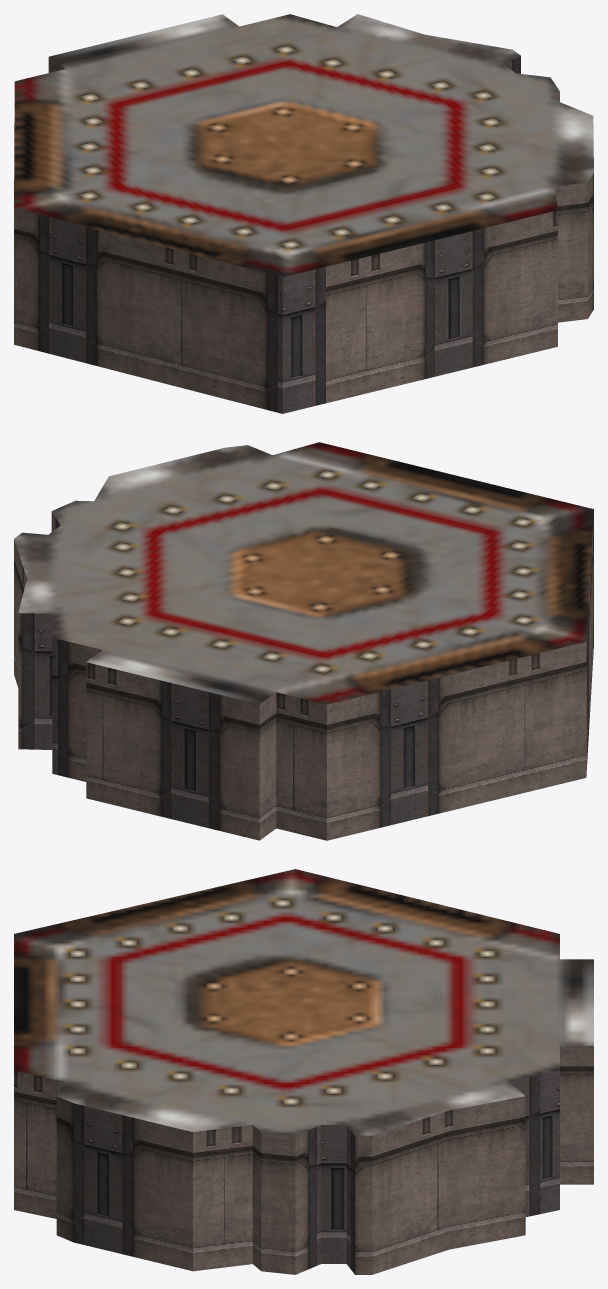
The model's file is bsealed_heavy_a_07.glb.
3 views of the same model, one above another, from view 1: azimuth 30°, elevation 25°; view 2: azimuth 150°, elevation 25°; view 3: azimuth 270°, elevation 25° (orthographic). The views are drawn at different scales.
Parts seen in each view (by area): view 1: buildings/saxarba/bsealed_heavy/bsealed_heavy_a_07; view 2: buildings/saxarba/bsealed_heavy/bsealed_heavy_a_07; view 3: buildings/saxarba/bsealed_heavy/bsealed_heavy_a_07.
Boxes of the visible parts, left/top/right/bottom form: buildings/saxarba/bsealed_heavy/bsealed_heavy_a_07: left=14, top=14, right=593, bottom=413; buildings/saxarba/bsealed_heavy/bsealed_heavy_a_07: left=14, top=442, right=593, bottom=840; buildings/saxarba/bsealed_heavy/bsealed_heavy_a_07: left=14, top=869, right=593, bottom=1274.
Size of the model in its own units: 74 by 18 by 68.
